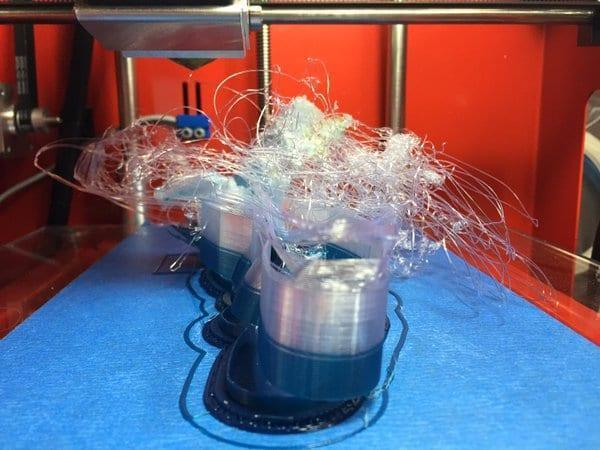Layer Shifting: (215, 346, 299, 438), (229, 322, 290, 389), (210, 267, 248, 345), (301, 379, 375, 409)
Spaghetti: (385, 126, 573, 303), (211, 58, 380, 239), (35, 130, 208, 273)
